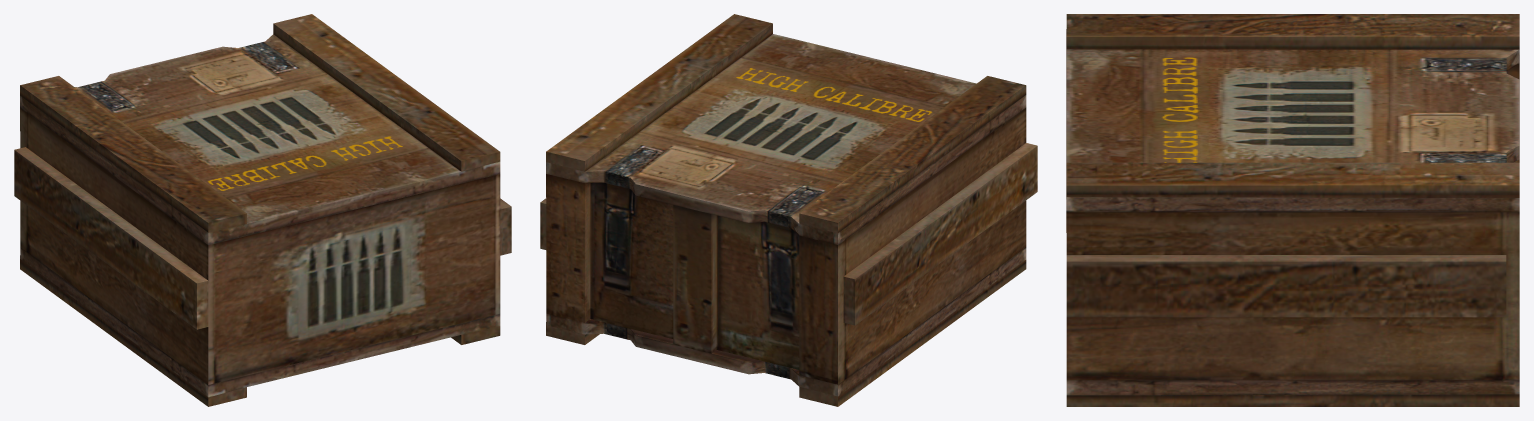
The model's file is VV_highcaliber.fbx.
3 renders of one model, left to right at view 1: azimuth 30°, elevation 25°; view 2: azimuth 150°, elevation 25°; view 3: azimuth 270°, elevation 25°, orthographic. The views are drawn at different scales.
Visible parts, largest first — view 1: VV_highcaliber; view 2: VV_highcaliber; view 3: VV_highcaliber.
Boxes of the visible parts, x1=… form: VV_highcaliber: x1=14, y1=14, x2=511, y2=406; VV_highcaliber: x1=540, y1=14, x2=1037, y2=406; VV_highcaliber: x1=1066, y1=14, x2=1519, y2=406.
Bounding box in the file's own units: 93.43 × 52.19 × 96.78.
Materials: 1 (1 with a texture image).
